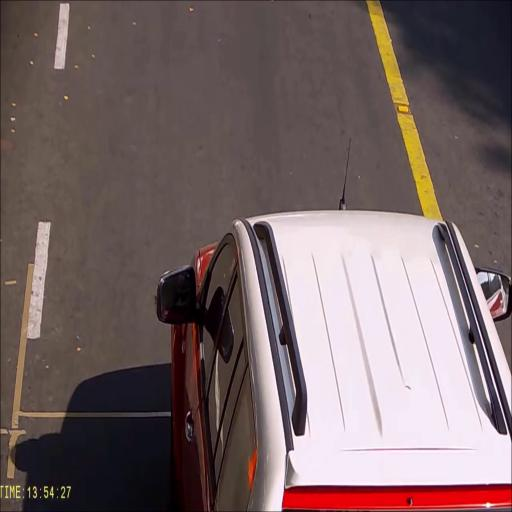Vehicle: (155, 137, 512, 512)
